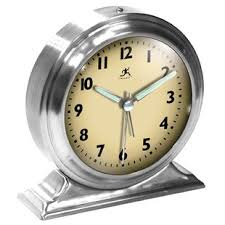alarm_clock: (15, 6, 205, 218), (25, 6, 205, 218)
